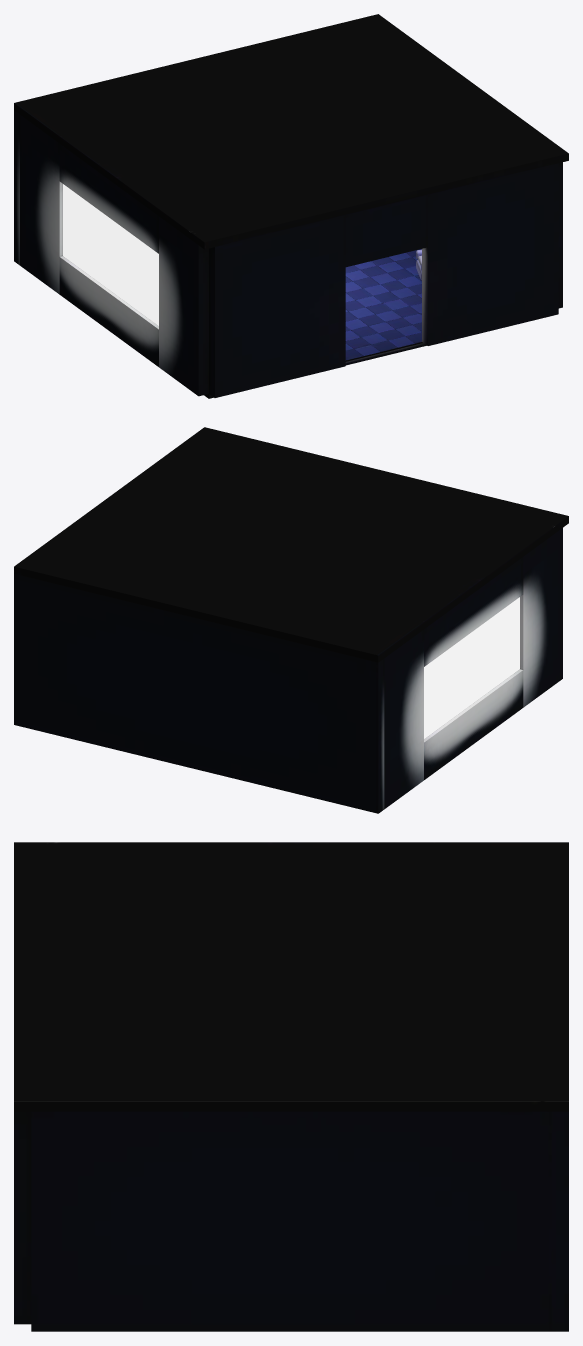
The model's file is room_planet_m.glb.
3 renders of one model, top to bottom at view 1: azimuth 30°, elevation 25°; view 2: azimuth 150°, elevation 25°; view 3: azimuth 270°, elevation 25°, orthographic. The views are drawn at different scales.
Parts seen in each view (by area): view 1: baked_ceiling, baked_walls, baked_floor, window_glass; view 2: baked_walls, baked_ceiling, window_glass; view 3: baked_ceiling, baked_walls.
Part boxes in pixels (x1=…): baked_ceiling: x1=14, y1=14, x2=568, y2=249; baked_walls: x1=14, y1=110, x2=562, y2=397; baked_floor: x1=204, y1=249, x2=426, y2=398; window_glass: x1=63, y1=184, x2=158, y2=325; baked_walls: x1=14, y1=528, x2=562, y2=813; baked_ceiling: x1=14, y1=427, x2=568, y2=662; window_glass: x1=424, y1=597, x2=519, y2=738; baked_ceiling: x1=14, y1=842, x2=568, y2=1111; baked_walls: x1=14, y1=1111, x2=568, y2=1331.
Bounding box in the file's own units: 10.6 × 4.54 × 9.6.
6 materials, 4 textured.
